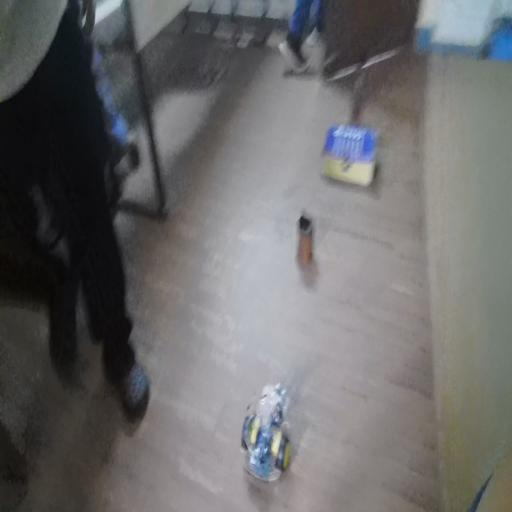car: (230, 381, 307, 482)
